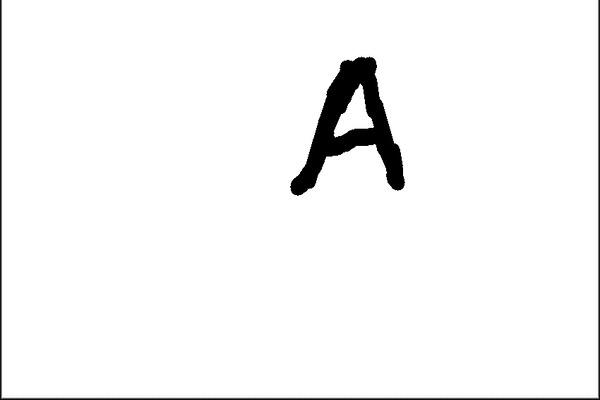A: (285, 50, 409, 194)
